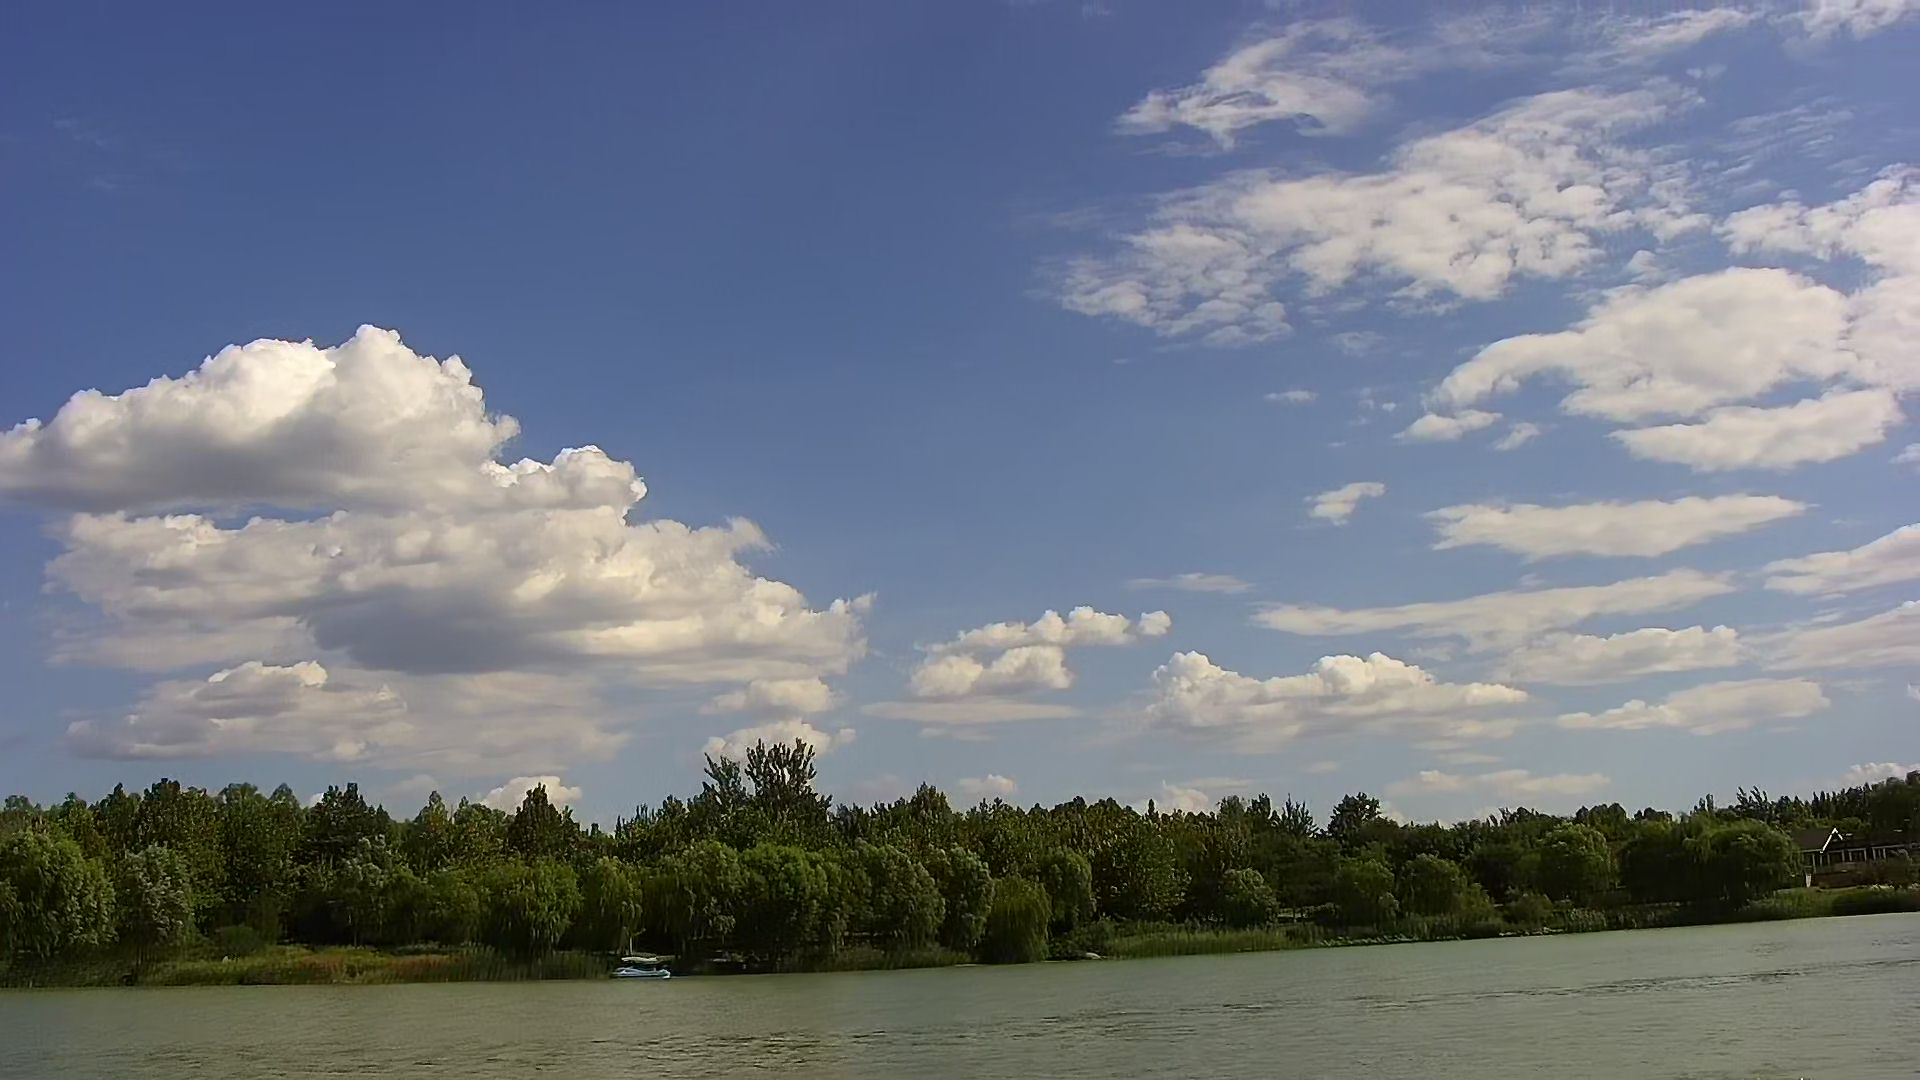boat: (607, 951, 673, 984)
